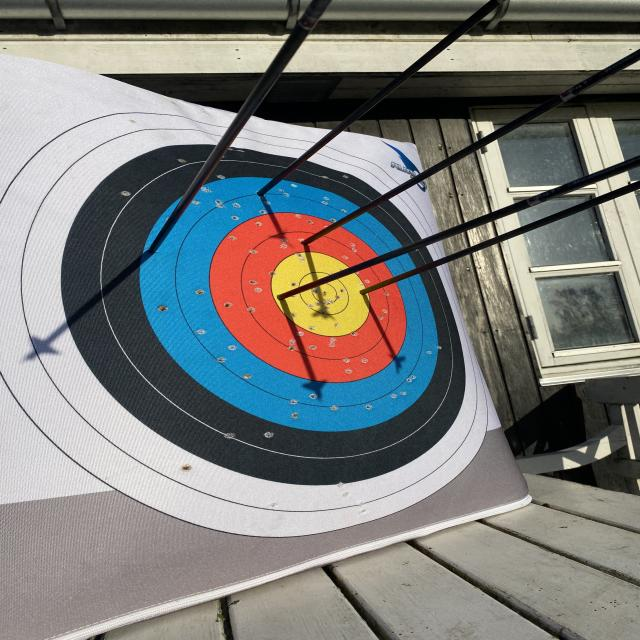Arrow_Blue: (128, 238, 178, 264), (244, 177, 280, 206)
Arrow_Red: (293, 230, 328, 253)
Arrow_Yellow: (274, 284, 306, 318), (354, 285, 386, 305)
